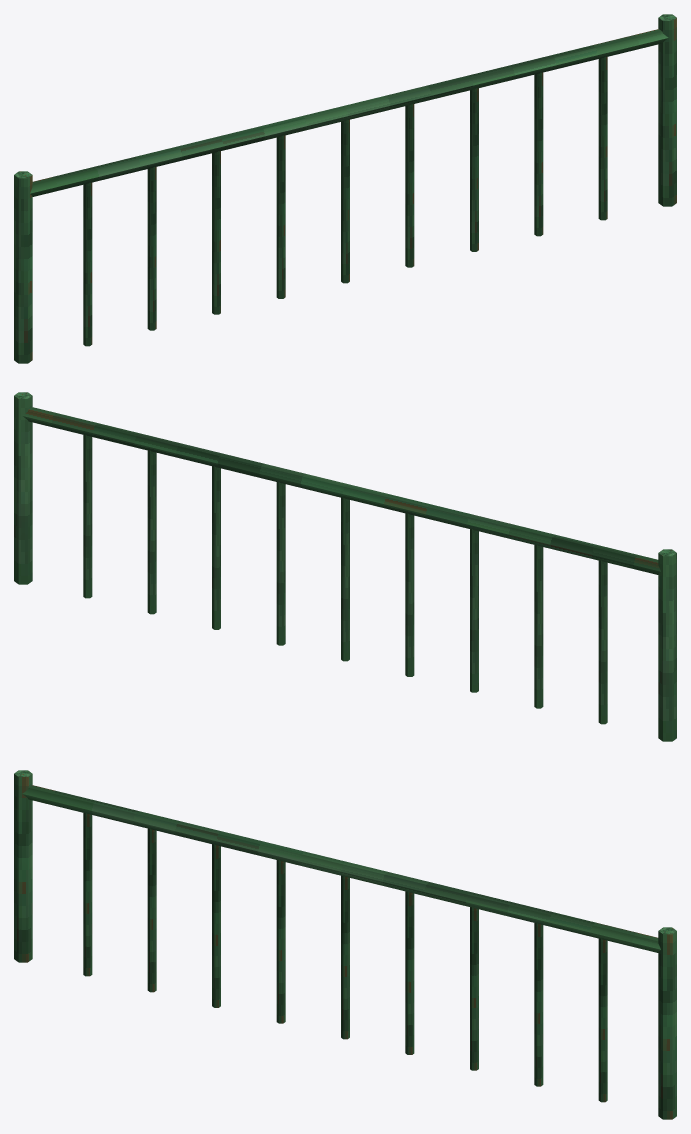
Rendered from fence_low.glb.
3 views of the same model, one above another, from view 1: azimuth 30°, elevation 25°; view 2: azimuth 150°, elevation 25°; view 3: azimuth 330°, elevation 25° (orthographic).
Parts seen in each view (by area): view 1: fence_low; view 2: fence_low; view 3: fence_low.
Boxes of the visible parts, x1,y1,x2,y2 form: fence_low: (14, 14, 676, 363); fence_low: (14, 392, 676, 741); fence_low: (14, 770, 676, 1119).
Bounding box in the file's own units: 2.04 × 0.55 × 0.05.
Materials: 1 (1 with a texture image).
